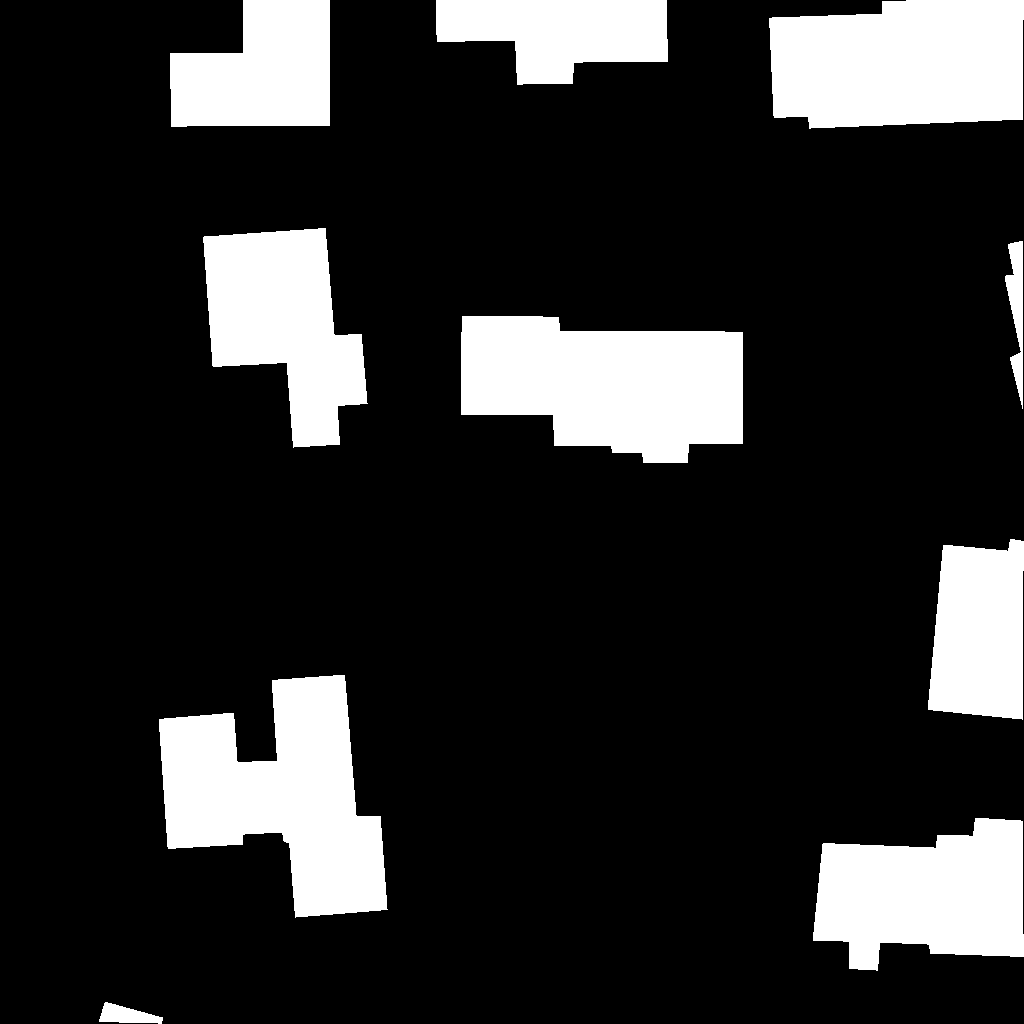building: (159, 675, 388, 918), (461, 316, 744, 463), (203, 228, 368, 448), (769, 0, 1024, 129), (813, 818, 1024, 971), (170, 0, 331, 127), (436, 0, 669, 85), (928, 539, 1024, 720), (1005, 241, 1024, 411), (99, 1002, 164, 1024)
